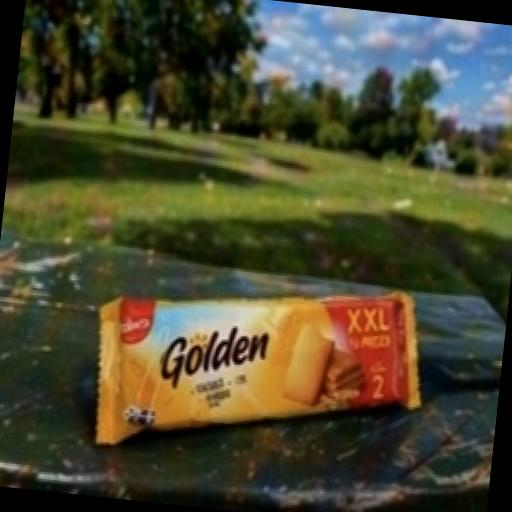golden: (38, 210, 460, 482)
